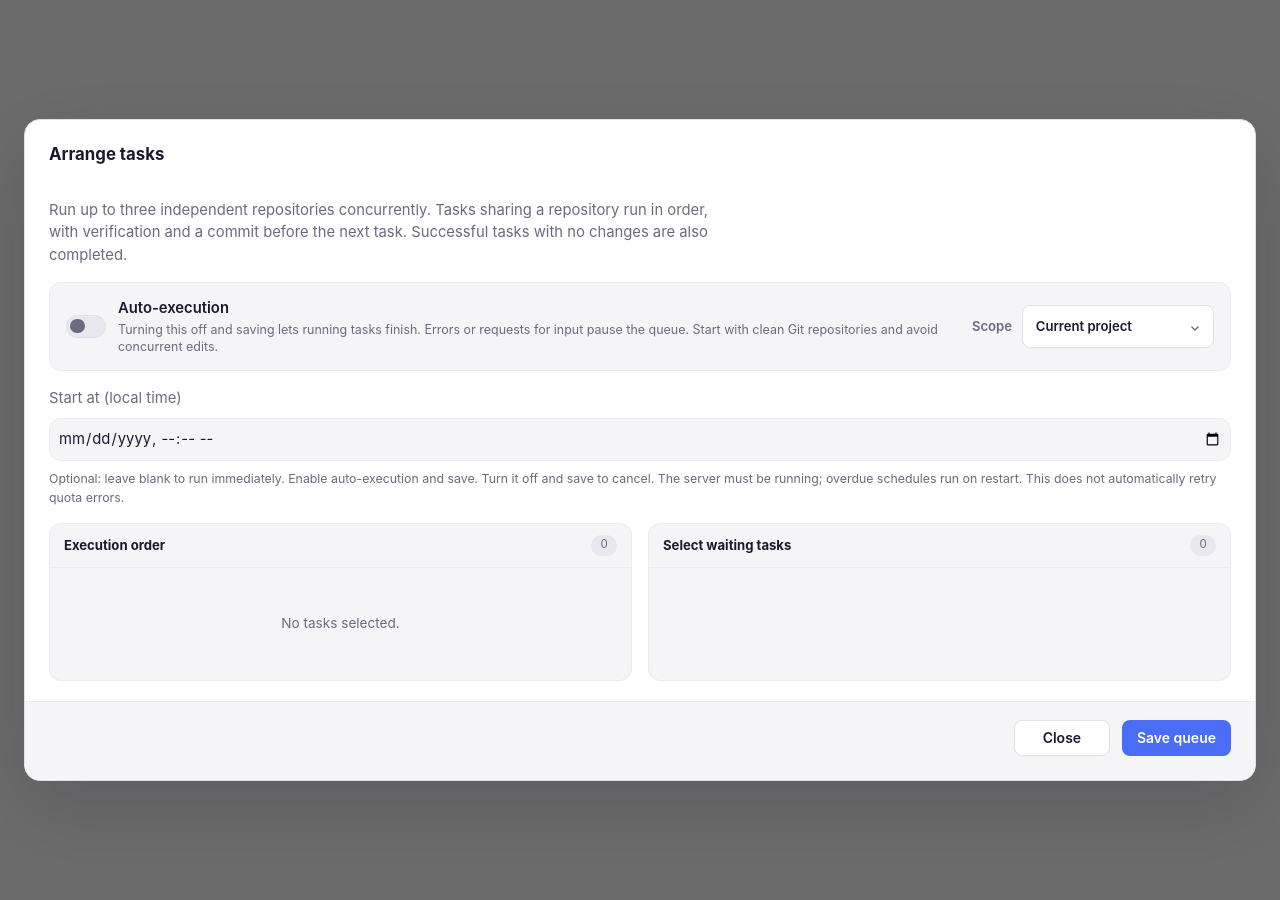
Test case: TaskExecutionDialog › excludes individually scheduled tasks from shared-queue selection
The width and height of the screenshot is (1280, 900).
Click the button with class "custom-select-trigger": (1118, 326) [1022,305,1214,348]
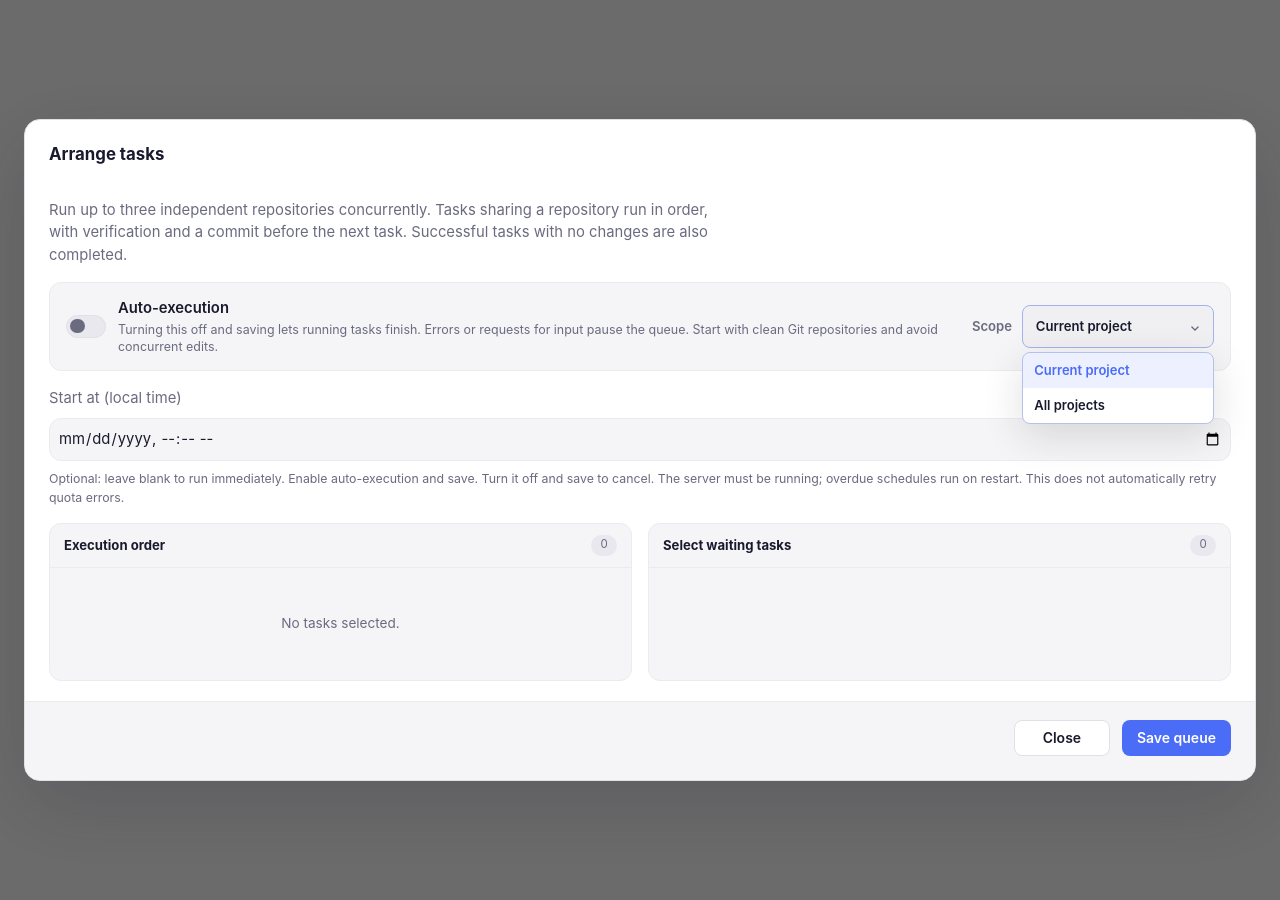
Click the option with class "custom-select-option" showing "All projects": (1118, 406) [1023,388,1213,423]
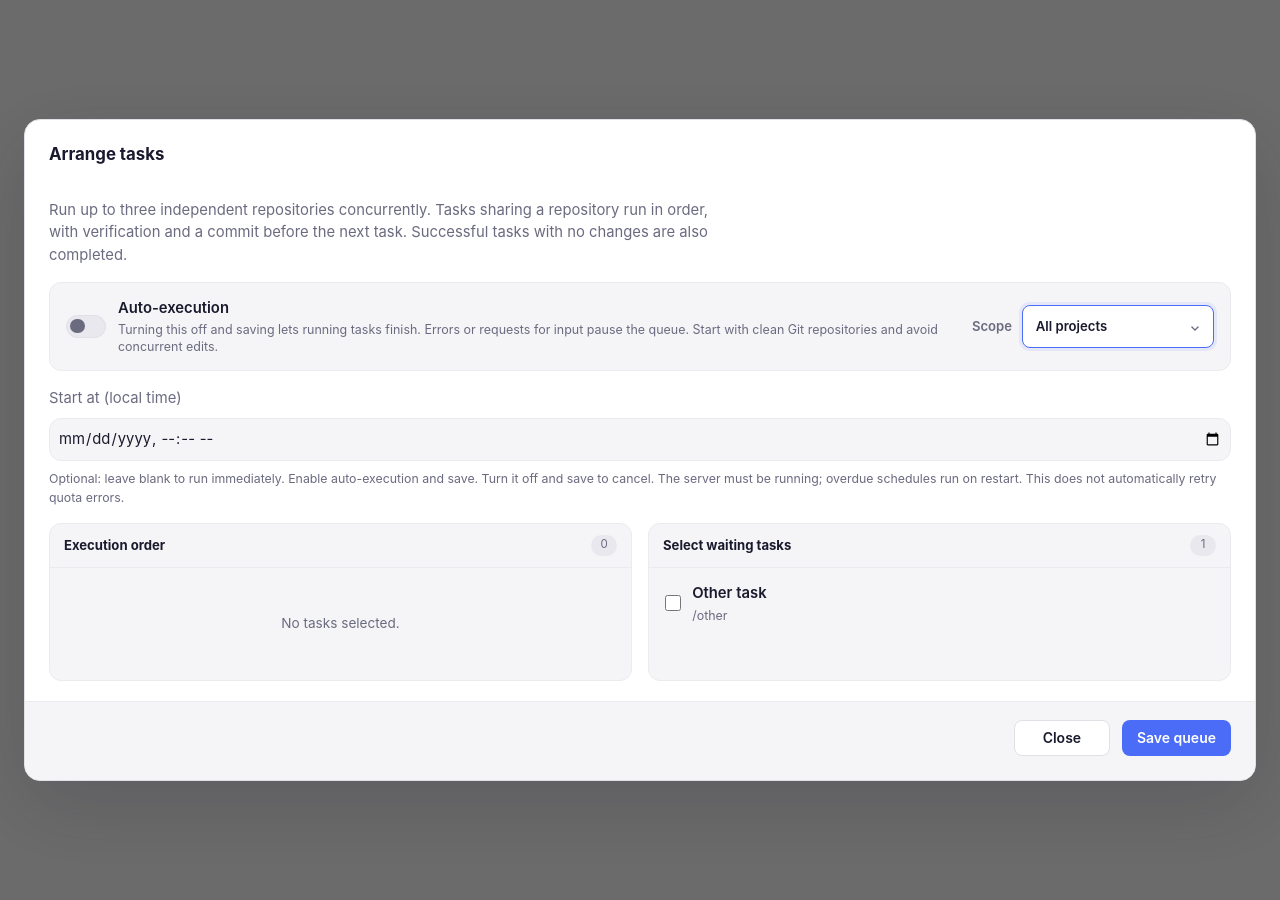
Expected: the element with class "available" shows "Other task", [692,584,767,602]
